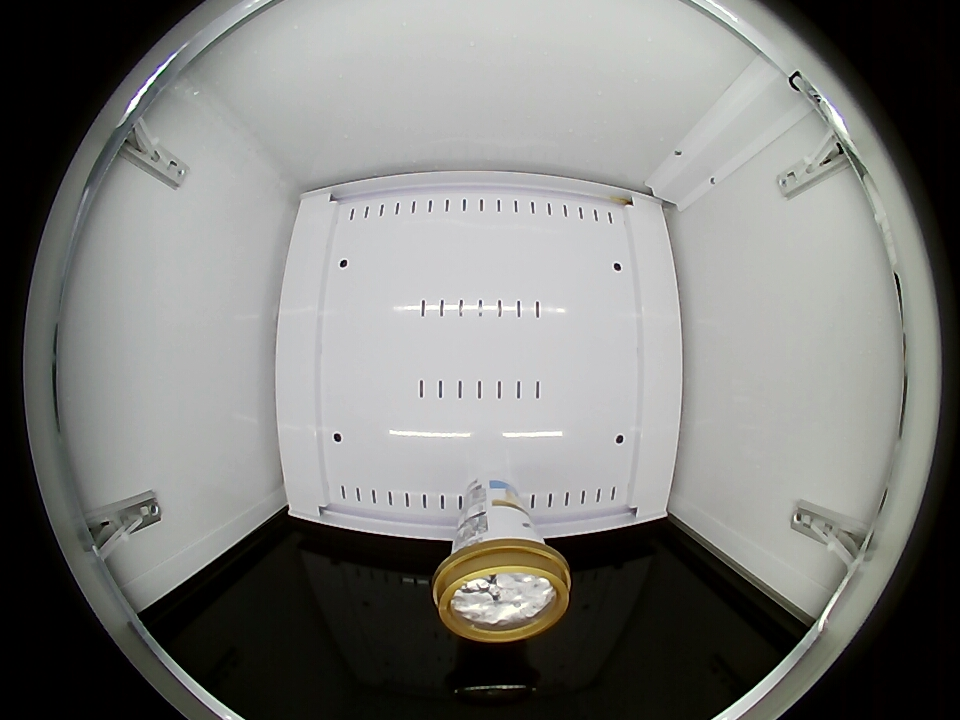lujiaoxiang: (432, 533, 572, 642)
